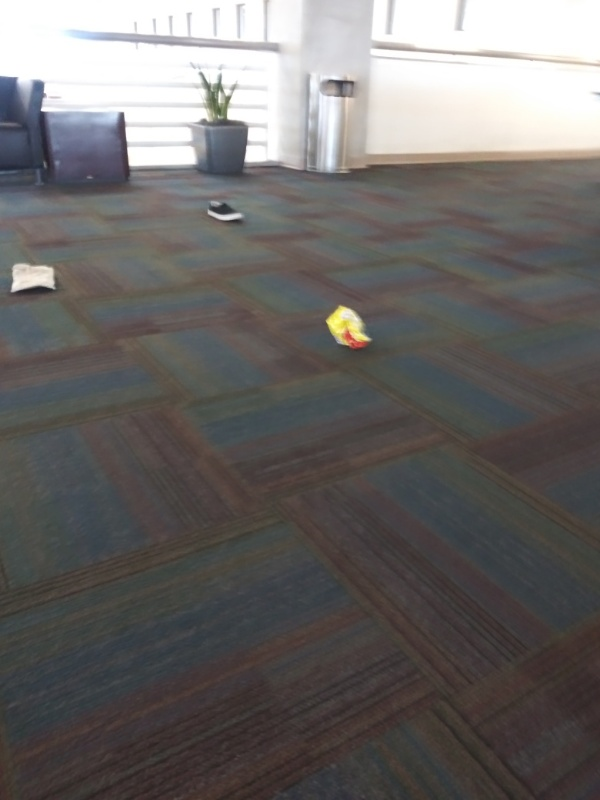bag: (320, 303, 377, 354), (4, 257, 65, 297)
